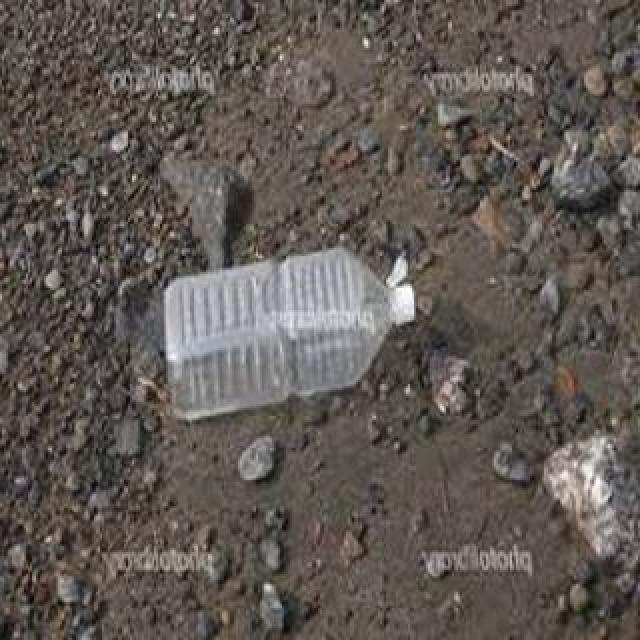Pet_Bottle: (154, 245, 422, 423)
